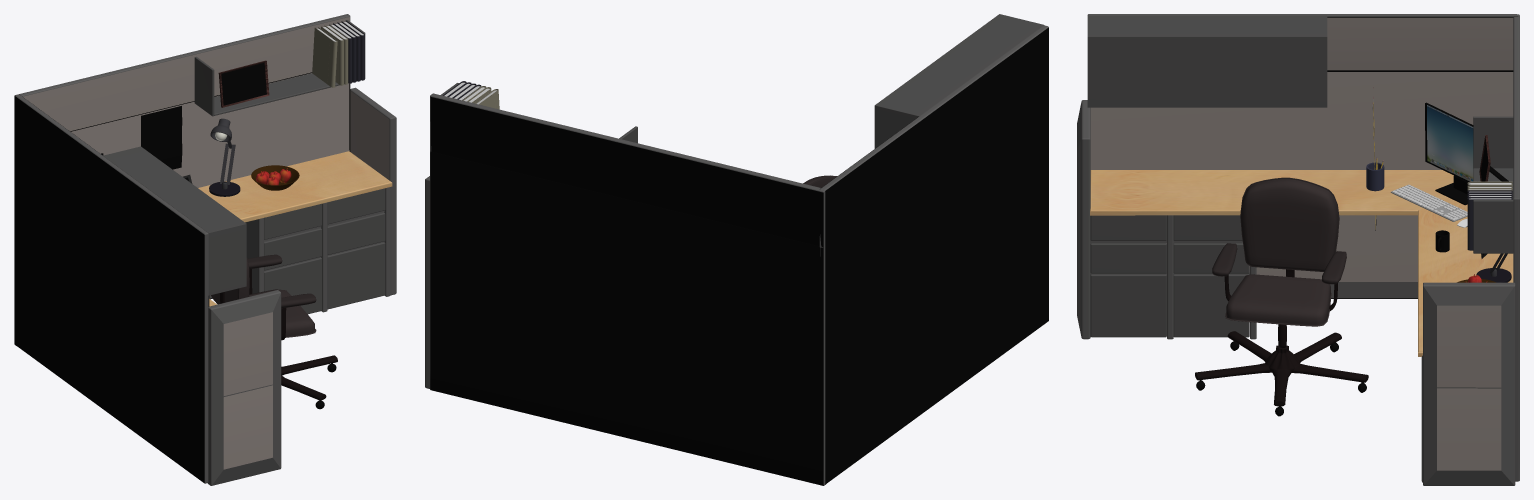
File: Updated_office.fbx
3 views of the same model, side by side, from view 1: azimuth 30°, elevation 25°; view 2: azimuth 150°, elevation 25°; view 3: azimuth 270°, elevation 25° (orthographic). The views are drawn at different scales.
Visible parts, largest first — view 1: Cubicle2, drawer12, pPlane2, drawer9, upperChair, picture_frame1, drawer11, drawer8, drawer10, drawer7, book7, LowerChair (+3 smaller); view 2: Cubicle2; view 3: Cubicle2, backrest1, upperChair, drawer5, LowerChair, drawer6, monitor, drawer4, drawer1, drawer2, drawer3, keyboard (+3 smaller).
Boxes of the visible parts, x1,y1,x2,y2 form: Cubicle2: [14, 14, 396, 485]; drawer12: [327, 242, 385, 309]; pPlane2: [141, 106, 182, 169]; drawer9: [264, 257, 321, 314]; upperChair: [247, 254, 316, 340]; picture_frame1: [218, 60, 269, 107]; drawer11: [327, 212, 385, 254]; drawer8: [264, 228, 321, 270]; drawer10: [327, 188, 385, 224]; drawer7: [264, 203, 321, 239]; book7: [312, 27, 337, 87]; LowerChair: [281, 355, 337, 409]; Cubicle2: [425, 14, 1048, 485]; Cubicle2: [1077, 14, 1519, 485]; backrest1: [1240, 177, 1339, 277]; upperChair: [1212, 243, 1346, 326]; drawer5: [1090, 274, 1166, 337]; LowerChair: [1195, 324, 1368, 416]; drawer6: [1173, 274, 1249, 337]; monitor: [1425, 102, 1473, 205]; drawer4: [1090, 243, 1166, 273]; drawer1: [1090, 215, 1166, 240]; drawer2: [1173, 215, 1242, 240]; drawer3: [1173, 243, 1249, 273]; keyboard: [1390, 184, 1467, 221].
Size of the model in its own units: 127 by 88.9 by 125.
